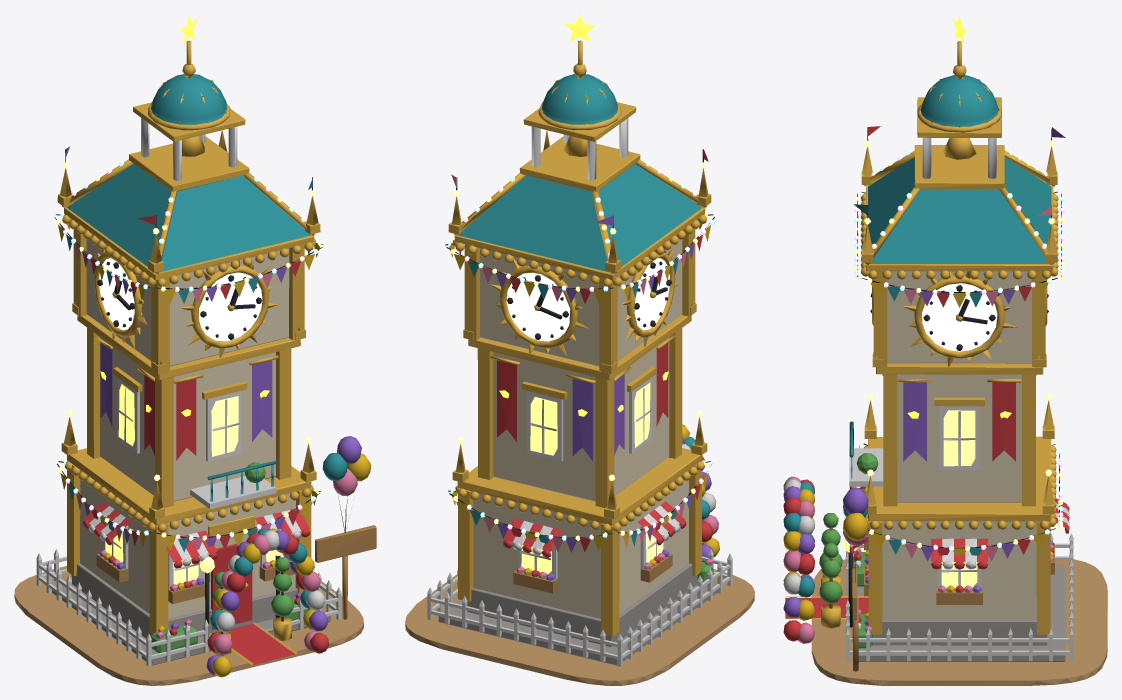
File: clock-tower-stage-6-merged.5a6987cb.glb
3 renders of one model, left to right at view 1: azimuth 30°, elevation 25°; view 2: azimuth 150°, elevation 25°; view 3: azimuth 270°, elevation 25°, orthographic.
Visible parts, largest first — view 1: ClockTower_Stage6__T_vcol, ClockTower_Stage6__G_clockface, ClockTower_Stage6__G_window, ClockTower_Stage6__G_bulb_warm, ClockTower_Stage6__G_bulb_cyan; view 2: ClockTower_Stage6__T_vcol, ClockTower_Stage6__G_clockface, ClockTower_Stage6__G_window, ClockTower_Stage6__G_bulb_warm, ClockTower_Stage6__G_bulb_cyan, ClockTower_Stage6__G_star_gold; view 3: ClockTower_Stage6__T_vcol, ClockTower_Stage6__G_clockface, ClockTower_Stage6__G_window, ClockTower_Stage6__G_bulb_warm, ClockTower_Stage6__G_bulb_cyan, ClockTower_Stage6__G_bulb_pink.
Part boxes in pixels (x1=…): ClockTower_Stage6__T_vcol: x1=14, y1=41, x2=376, y2=685; ClockTower_Stage6__G_clockface: x1=99, y1=258, x2=262, y2=341; ClockTower_Stage6__G_window: x1=105, y1=384, x2=283, y2=584; ClockTower_Stage6__G_bulb_warm: x1=55, y1=162, x2=323, y2=540; ClockTower_Stage6__G_bulb_cyan: x1=59, y1=161, x2=318, y2=540; ClockTower_Stage6__T_vcol: x1=405, y1=40, x2=754, y2=685; ClockTower_Stage6__G_clockface: x1=506, y1=258, x2=669, y2=341; ClockTower_Stage6__G_window: x1=521, y1=383, x2=663, y2=574; ClockTower_Stage6__G_bulb_warm: x1=450, y1=162, x2=709, y2=540; ClockTower_Stage6__G_bulb_cyan: x1=446, y1=161, x2=713, y2=540; ClockTower_Stage6__G_star_gold: x1=499, y1=14, x2=668, y2=416; ClockTower_Stage6__T_vcol: x1=783, y1=41, x2=1107, y2=685; ClockTower_Stage6__G_clockface: x1=922, y1=283, x2=997, y2=351; ClockTower_Stage6__G_window: x1=843, y1=410, x2=977, y2=588; ClockTower_Stage6__G_bulb_warm: x1=854, y1=140, x2=1065, y2=550; ClockTower_Stage6__G_bulb_cyan: x1=854, y1=150, x2=1065, y2=550; ClockTower_Stage6__G_bulb_pink: x1=854, y1=155, x2=1065, y2=549.
Size of the model in its own units: 4.96 by 10.87 by 5.24.
